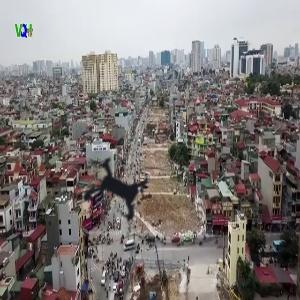drone: (46, 124, 188, 266)
